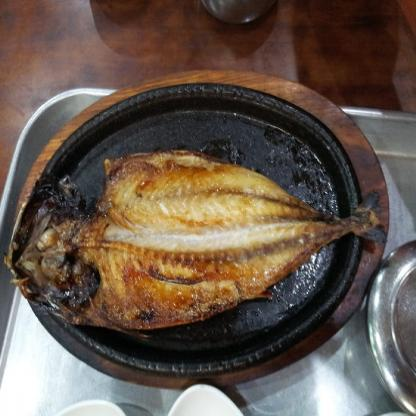Peixe: (21, 146, 393, 340)
